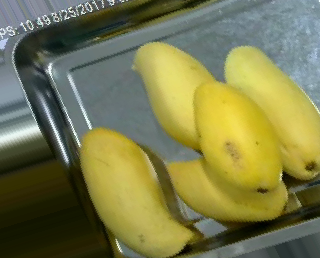Mango: (82, 125, 193, 255), (222, 42, 320, 180), (130, 38, 232, 153), (193, 79, 282, 196), (165, 155, 292, 223)
